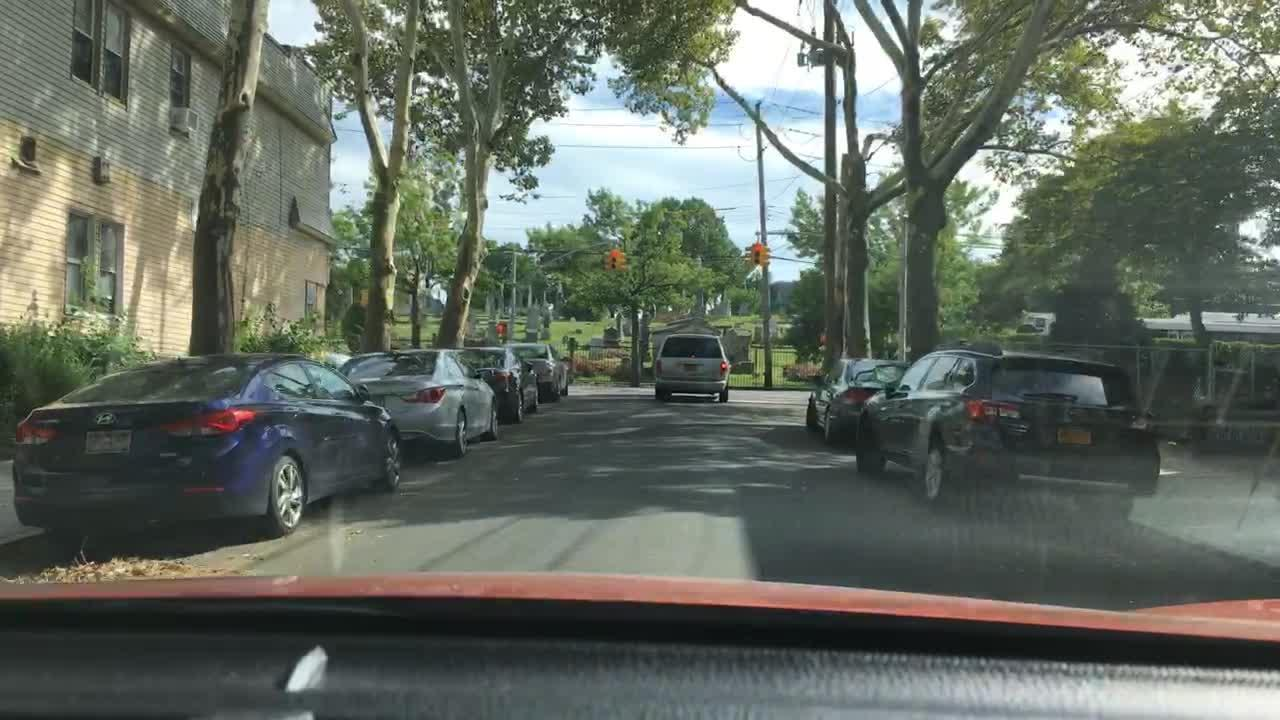Hyundai: (79, 399, 131, 431)
